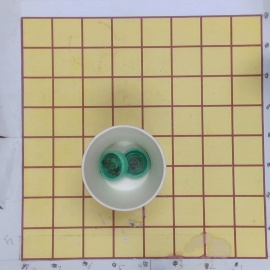cup_green: (82, 126, 167, 213)
